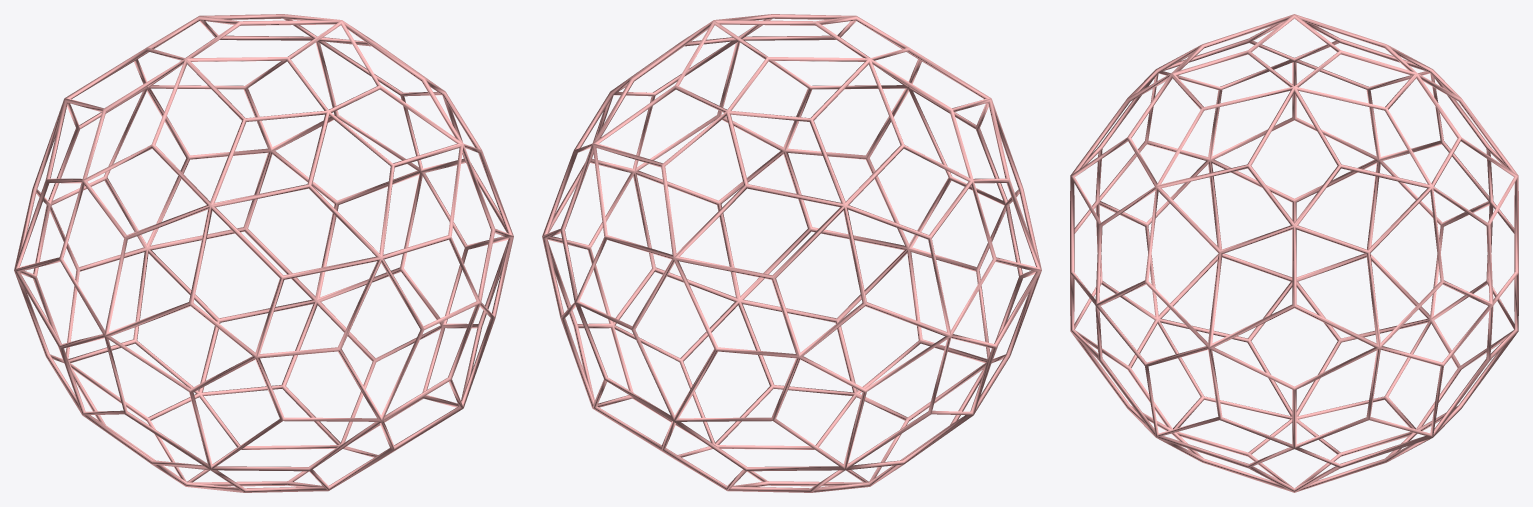
The model's file is JoinedTruncatedIcosahedron2.glb.
The picture shows the model from 3 angles, left to right: view 1: azimuth 30°, elevation 25°; view 2: azimuth 150°, elevation 25°; view 3: azimuth 270°, elevation 25°; orthographic projection. The views are drawn at different scales.
Parts seen in each view (by area): view 1: JoinedTruncatedIcosahedron; view 2: JoinedTruncatedIcosahedron; view 3: JoinedTruncatedIcosahedron.
Part boxes in pixels (x1,y1,x2,y2): JoinedTruncatedIcosahedron: [14, 14, 513, 492]; JoinedTruncatedIcosahedron: [542, 14, 1041, 492]; JoinedTruncatedIcosahedron: [1070, 14, 1518, 492].
Size of the model in its own units: 4.9 by 4.9 by 4.9.
